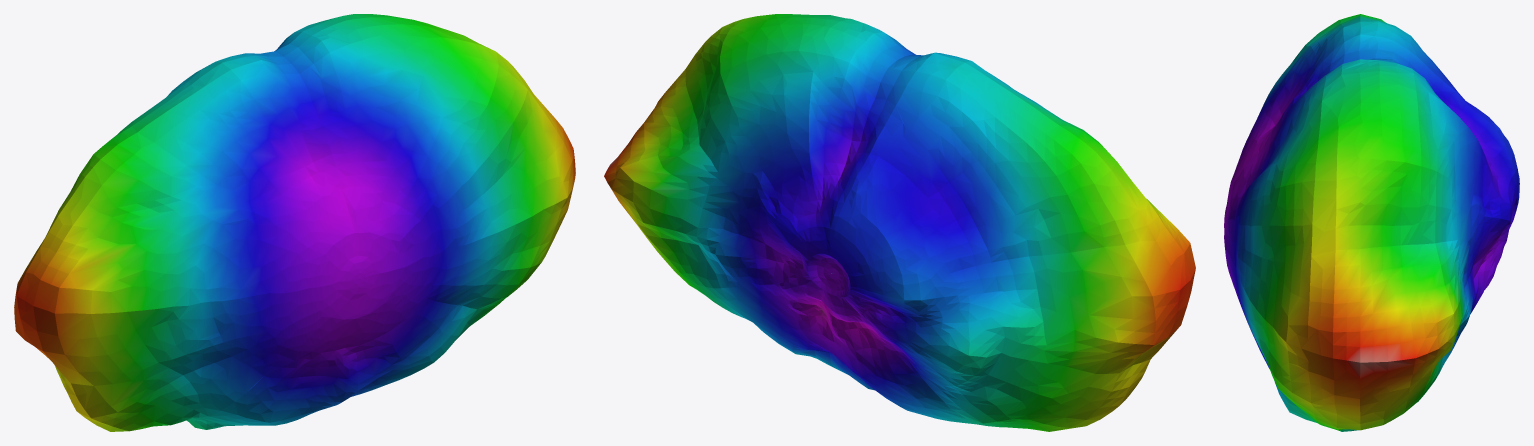
Rendered from Prometheus-Mi.fbx.
The picture shows the model from 3 angles, left to right: view 1: azimuth 30°, elevation 25°; view 2: azimuth 150°, elevation 25°; view 3: azimuth 270°, elevation 25°; orthographic projection.
Parts seen in each view (by area): view 1: Prometheus-Mi; view 2: Prometheus-Mi; view 3: Prometheus-Mi.
Boxes of the visible parts, box(x1,y1,x2,y2) form: Prometheus-Mi: box(14, 14, 575, 431); Prometheus-Mi: box(604, 14, 1195, 431); Prometheus-Mi: box(1224, 14, 1519, 431).
Size of the model in its own units: 6838 by 9270 by 14850.
